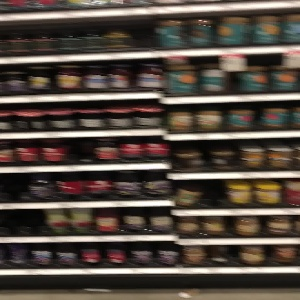void: (1, 206, 45, 237), (1, 171, 31, 203), (66, 137, 96, 166), (201, 180, 227, 209), (136, 18, 158, 50)
